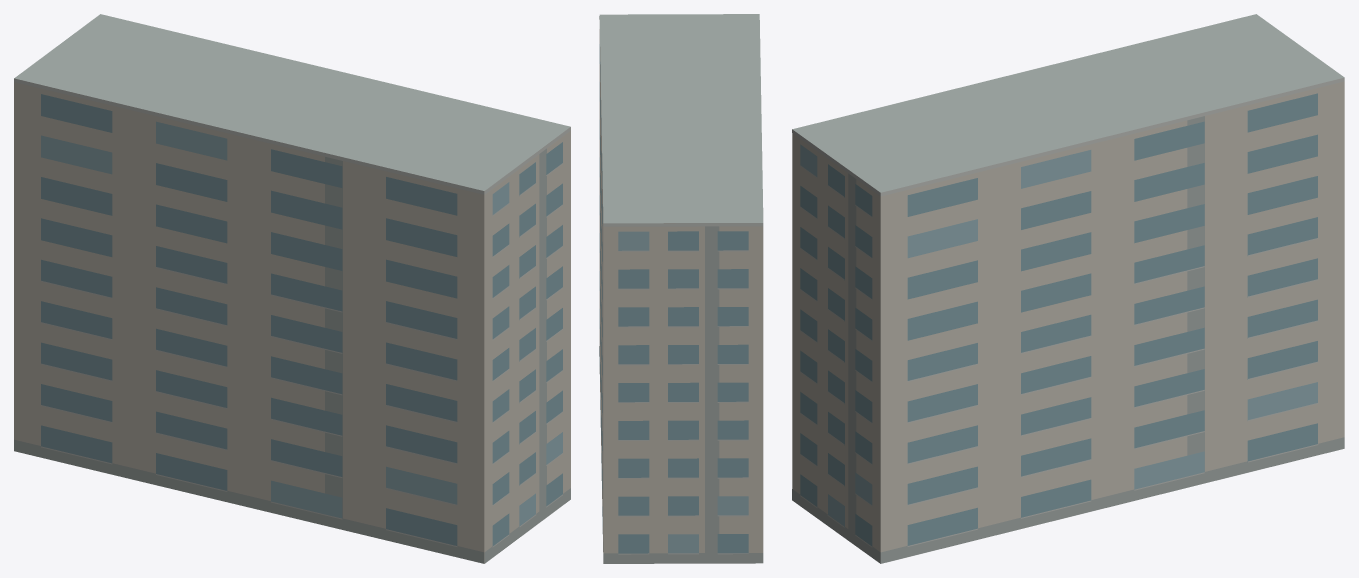
The model's file is residential-72cb2456-77a9-4992-a9cf-326bb2134bcc.glb.
3 renders of one model, left to right at view 1: azimuth 30°, elevation 25°; view 2: azimuth 150°, elevation 25°; view 3: azimuth 270°, elevation 25°, orthographic. The views are drawn at different scales.
Visible parts, largest first — view 1: residential-72cb2456-77a9-4992-a9cf-326bb2134bcc.tmp; view 2: residential-72cb2456-77a9-4992-a9cf-326bb2134bcc.tmp; view 3: residential-72cb2456-77a9-4992-a9cf-326bb2134bcc.tmp.
Part boxes in pixels (left/top/right/bottom): residential-72cb2456-77a9-4992-a9cf-326bb2134bcc.tmp: left=14, top=14, right=570, bottom=563; residential-72cb2456-77a9-4992-a9cf-326bb2134bcc.tmp: left=599, top=14, right=763, bottom=563; residential-72cb2456-77a9-4992-a9cf-326bb2134bcc.tmp: left=792, top=14, right=1344, bottom=563.
Size of the model in its own units: 24.81 by 24 by 32.39.
